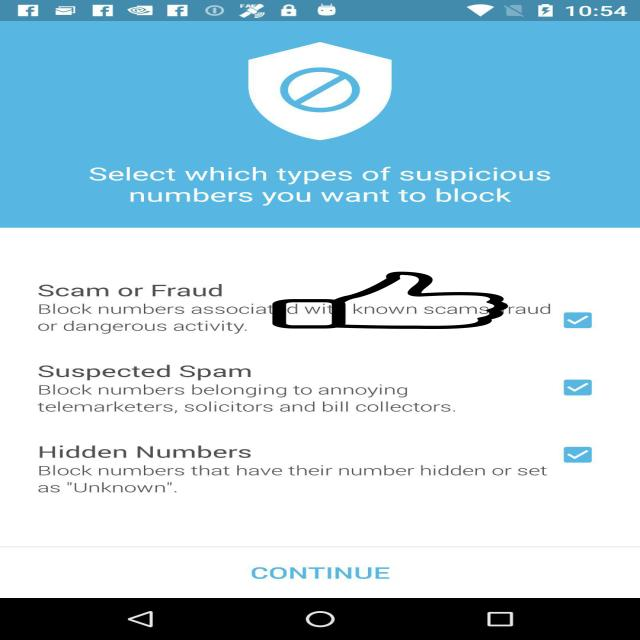privacy zuckering: (269, 272, 511, 329)
